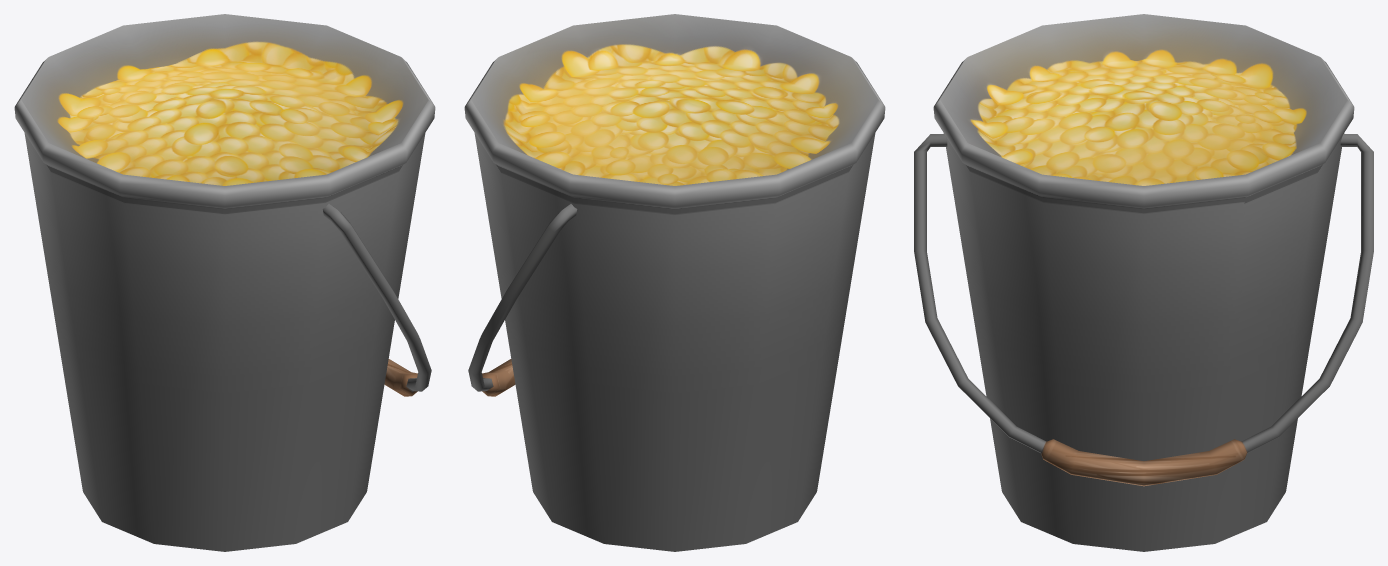
File: Emmer.fbx
The picture shows the model from 3 angles, left to right: view 1: azimuth 30°, elevation 25°; view 2: azimuth 150°, elevation 25°; view 3: azimuth 270°, elevation 25°; orthographic projection.
Parts seen in each view (by area): view 1: Emmer; view 2: Emmer; view 3: Emmer.
Part boxes in pixels (x1,y1,x2,y2): Emmer: [14, 14, 435, 551]; Emmer: [464, 14, 885, 551]; Emmer: [914, 14, 1373, 551].
Bounding box in the file's own units: 2.96 × 3.04 × 3.24.
